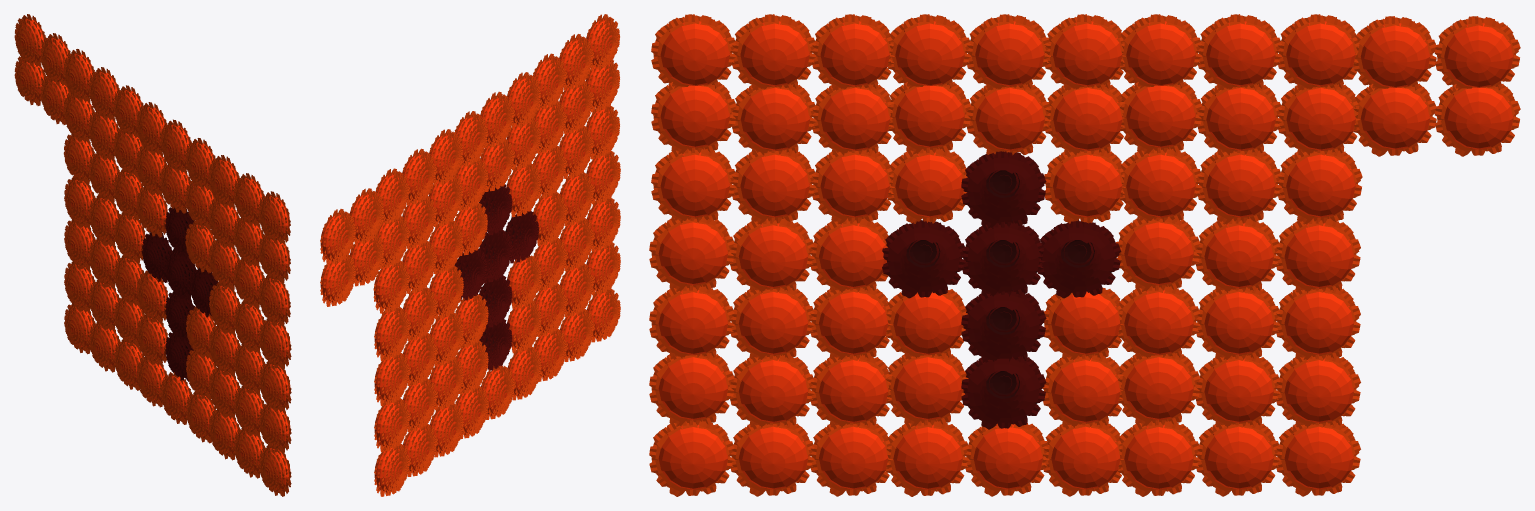
The model's file is entrada3.obj.
3 views of the same model, side by side, from view 1: azimuth 30°, elevation 25°; view 2: azimuth 150°, elevation 25°; view 3: azimuth 270°, elevation 25° (orthographic). The views are drawn at different scales.
Visible parts, largest first — view 1: Plano.204, Plano.198, Plano.210, Plano.202, Plano.197, Plano.227, Plano.207, Plano.228, Plano.141, Plano.203, Plano.232, Plano.233 (+55 smaller); view 2: Plano.141, Plano.248, Plano.253, Plano.252, Plano.247, Plano.249, Plano.143, Plano.140, Plano.219, Plano.242, Plano.206, Plano.221 (+55 smaller); view 3: Plano.210, Plano.260, Plano.261, Plano.242, Plano.206, Plano.223, Plano.263, Plano.141, Plano.204, Plano.197, Plano.249, Plano.252 (+55 smaller).
Part boxes in pixels (x1=…): Plano.204: x1=258, y1=191, x2=290, y2=244; Plano.198: x1=258, y1=274, x2=290, y2=326; Plano.210: x1=259, y1=444, x2=291, y2=496; Plano.202: x1=259, y1=360, x2=291, y2=412; Plano.197: x1=259, y1=317, x2=291, y2=369; Plano.227: x1=136, y1=270, x2=167, y2=323; Plano.207: x1=259, y1=403, x2=291, y2=453; Plano.228: x1=136, y1=186, x2=167, y2=237; Plano.141: x1=14, y1=14, x2=45, y2=67; Plano.203: x1=258, y1=234, x2=290, y2=283; Plano.232: x1=136, y1=314, x2=167, y2=365; Plano.233: x1=114, y1=211, x2=146, y2=263; Plano.141: x1=320, y1=209, x2=355, y2=265; Plano.248: x1=374, y1=307, x2=409, y2=360; Plano.253: x1=374, y1=398, x2=409, y2=451; Plano.252: x1=374, y1=443, x2=409, y2=496; Plano.247: x1=374, y1=352, x2=409, y2=405; Plano.249: x1=373, y1=260, x2=409, y2=313; Plano.143: x1=349, y1=188, x2=383, y2=244; Plano.140: x1=320, y1=254, x2=355, y2=306; Plano.219: x1=507, y1=255, x2=541, y2=309; Plano.242: x1=402, y1=148, x2=436, y2=205; Plano.206: x1=559, y1=34, x2=593, y2=90; Plano.221: x1=507, y1=72, x2=540, y2=128; Plano.210: x1=649, y1=420, x2=734, y2=496; Plano.260: x1=961, y1=151, x2=1046, y2=228; Plano.261: x1=882, y1=220, x2=965, y2=298; Plano.242: x1=1196, y1=14, x2=1281, y2=90; Plano.206: x1=731, y1=14, x2=816, y2=90; Plano.223: x1=965, y1=14, x2=1050, y2=90; Plano.263: x1=1037, y1=220, x2=1121, y2=298; Plano.141: x1=1434, y1=16, x2=1520, y2=90; Plano.204: x1=651, y1=14, x2=736, y2=88; Plano.197: x1=649, y1=216, x2=734, y2=291; Plano.249: x1=1276, y1=150, x2=1362, y2=224; Plano.252: x1=1275, y1=422, x2=1360, y2=496.
Size of the model in its own units: 0.0499 by 0.636 by 1.04.
